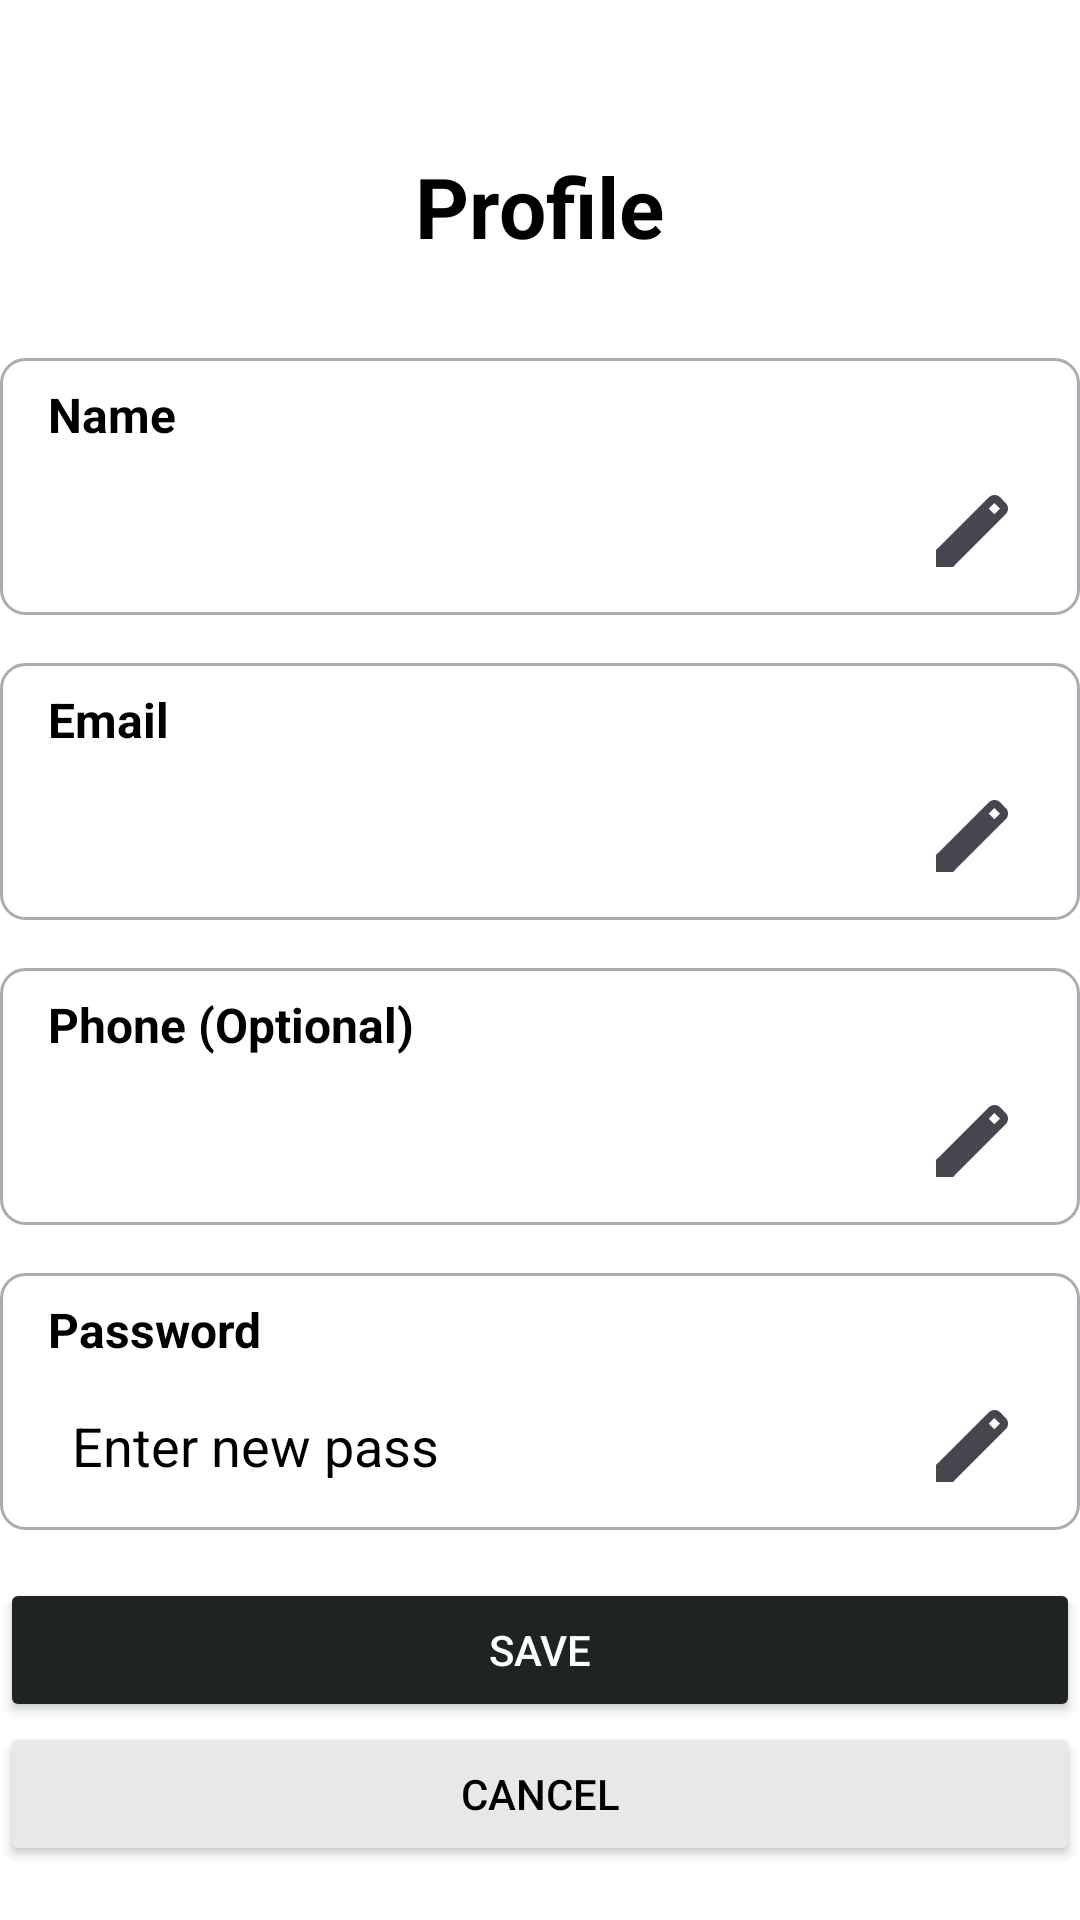

Screen size 1080px×1920px. Icon name, then its center in pixels as [x,y]:
edit: [972,531], [972,836], [972,1141], [972,1446]
